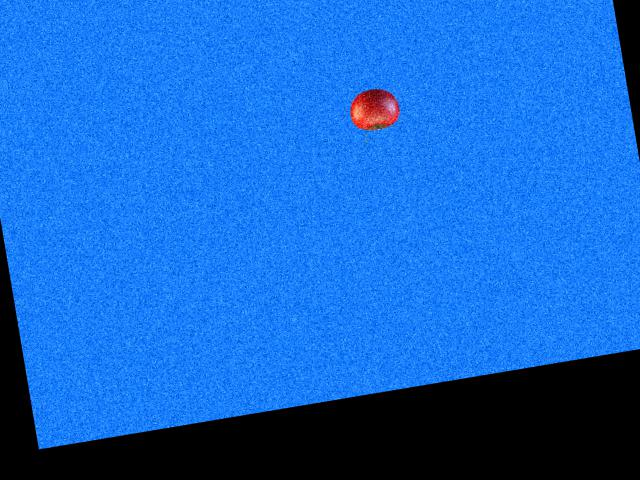tomato: (347, 85, 402, 133)
